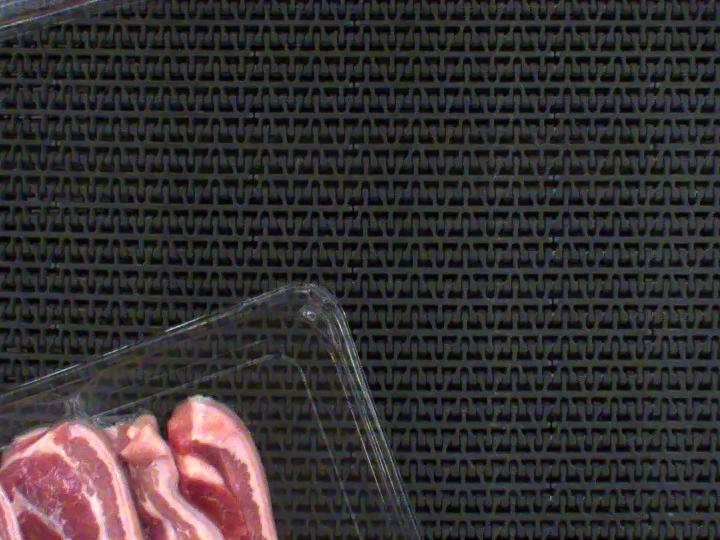packaging-error: (41, 376, 114, 436)
